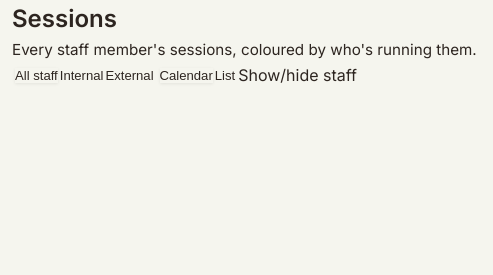
AgencySessionsPage — stub (offline client) sessions › respects the internal/external staff filter for stub sessions too
Click the tab "List".
click(225, 76)  # box [215,68,235,83]
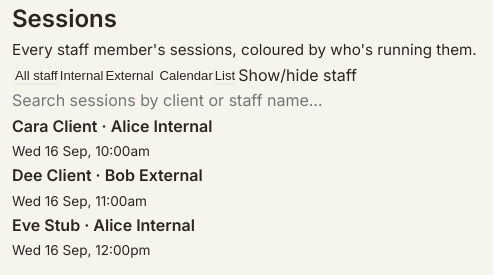
Expected: the text "Eve Stub · Alice Internal" is shown, [12,215,195,235]
Click the tab "External".
click(130, 76)  # box [106,68,154,83]
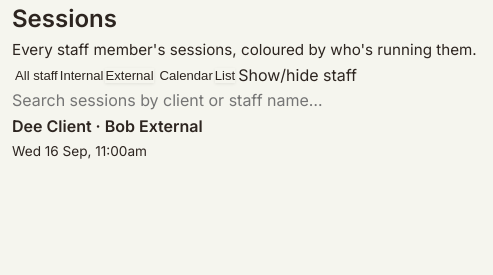
Expected: the text "Dee Client · Bob External" is shown, [12,116,203,136]
Expected: the text "Eve Stub" is gone
